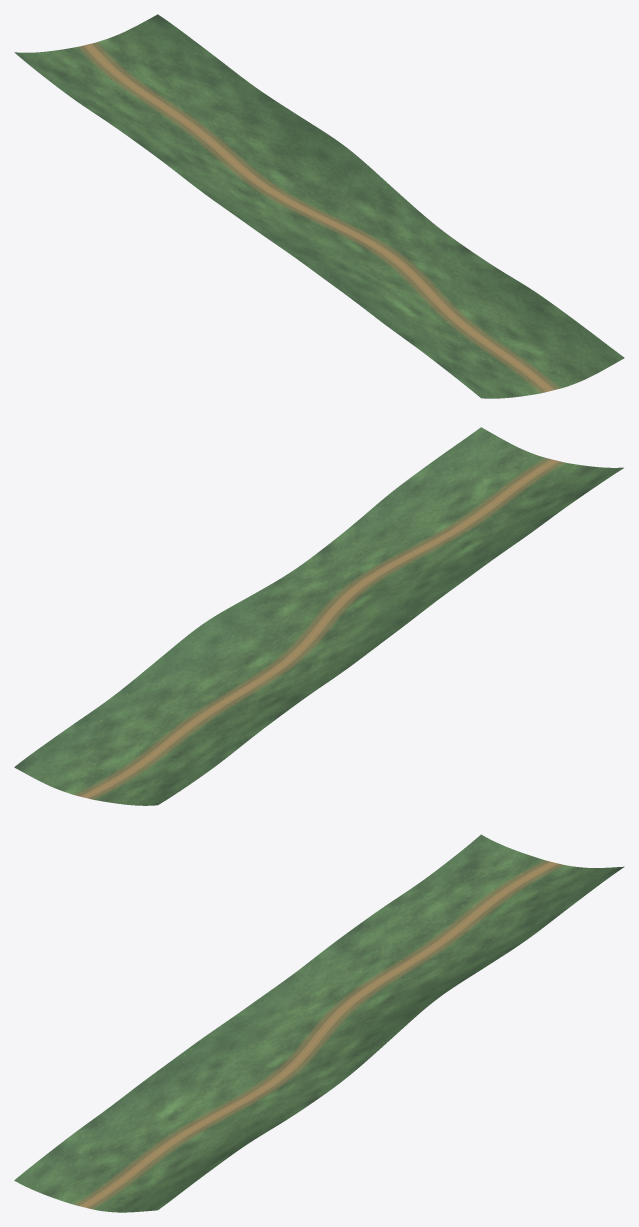
Rendered from S07_Rota_Haneul_Yunseong_Terrain.glb.
3 renders of one model, top to bottom at view 1: azimuth 30°, elevation 25°; view 2: azimuth 150°, elevation 25°; view 3: azimuth 330°, elevation 25°, orthographic.
Visible parts, largest first — view 1: GROUND_WALK_HWA02_HWA01; view 2: GROUND_WALK_HWA02_HWA01; view 3: GROUND_WALK_HWA02_HWA01.
Part boxes in pixels (x1,y1,x2,y2): GROUND_WALK_HWA02_HWA01: (14, 14, 624, 398); GROUND_WALK_HWA02_HWA01: (14, 427, 623, 805); GROUND_WALK_HWA02_HWA01: (14, 834, 624, 1212).
Size of the model in its own units: 128 by 18.52 by 720.
Materials: 1 (1 with a texture image).
